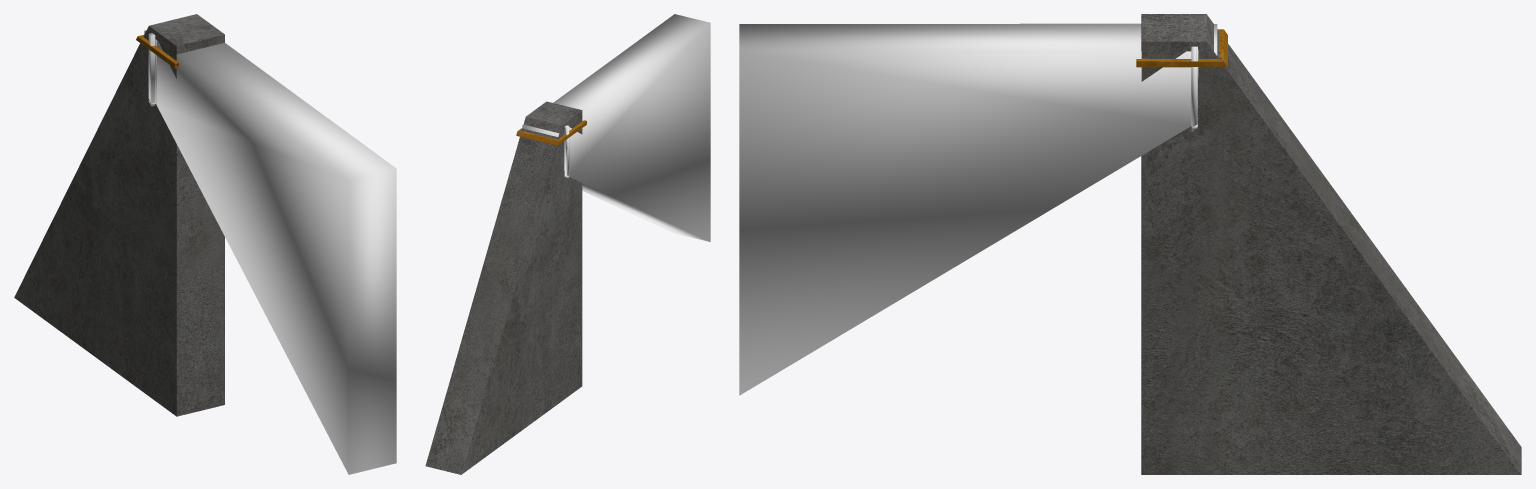
File: SM_DocksPillars.fbx
3 renders of one model, left to right at view 1: azimuth 30°, elevation 25°; view 2: azimuth 150°, elevation 25°; view 3: azimuth 270°, elevation 25°, orthographic. The views are drawn at different scales.
Visible parts, largest first — view 1: SM_DocksPillars_ConvexHulls, SM_DocksPillars; view 2: SM_DocksPillars, SM_DocksPillars_ConvexHulls; view 3: SM_DocksPillars_ConvexHulls, SM_DocksPillars.
Part boxes in pixels (left/top/right/bottom): SM_DocksPillars_ConvexHulls: left=144, top=30, right=396, bottom=474; SM_DocksPillars: left=14, top=14, right=224, bottom=416; SM_DocksPillars: left=425, top=101, right=586, bottom=474; SM_DocksPillars_ConvexHulls: left=522, top=14, right=710, bottom=241; SM_DocksPillars_ConvexHulls: left=739, top=23, right=1217, bottom=395; SM_DocksPillars: left=1136, top=14, right=1521, bottom=474.
Size of the model in its own units: 1.74 by 11 by 17.99.
